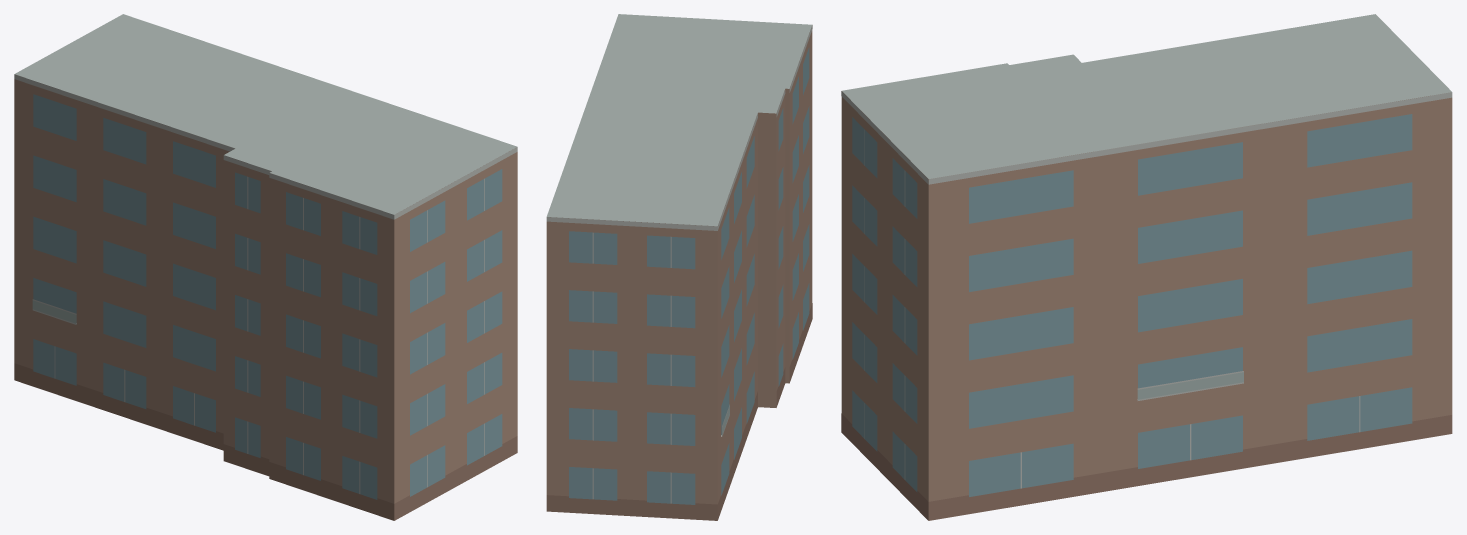
File: survey-upis-33025338.glb
The picture shows the model from 3 angles, left to right: view 1: azimuth 30°, elevation 25°; view 2: azimuth 150°, elevation 25°; view 3: azimuth 270°, elevation 25°; orthographic projection. The views are drawn at different scales.
Parts seen in each view (by area): view 1: survey-upis-33025338.tmp; view 2: survey-upis-33025338.tmp; view 3: survey-upis-33025338.tmp.
Part boxes in pixels (left/top/right/bottom): survey-upis-33025338.tmp: left=14, top=14, right=517, bottom=520; survey-upis-33025338.tmp: left=546, top=14, right=812, bottom=520; survey-upis-33025338.tmp: left=841, top=14, right=1452, bottom=520.
Bounding box in the file's own units: 15.82 × 15.25 × 24.72.
